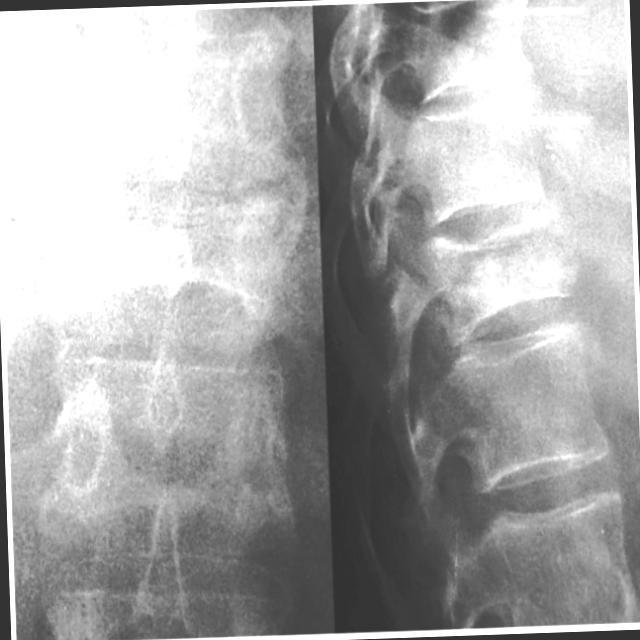Compression-Crush Fracutre: (416, 230, 569, 315)
